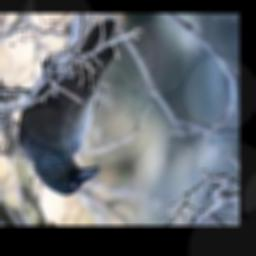Crow: (18, 18, 119, 196)
